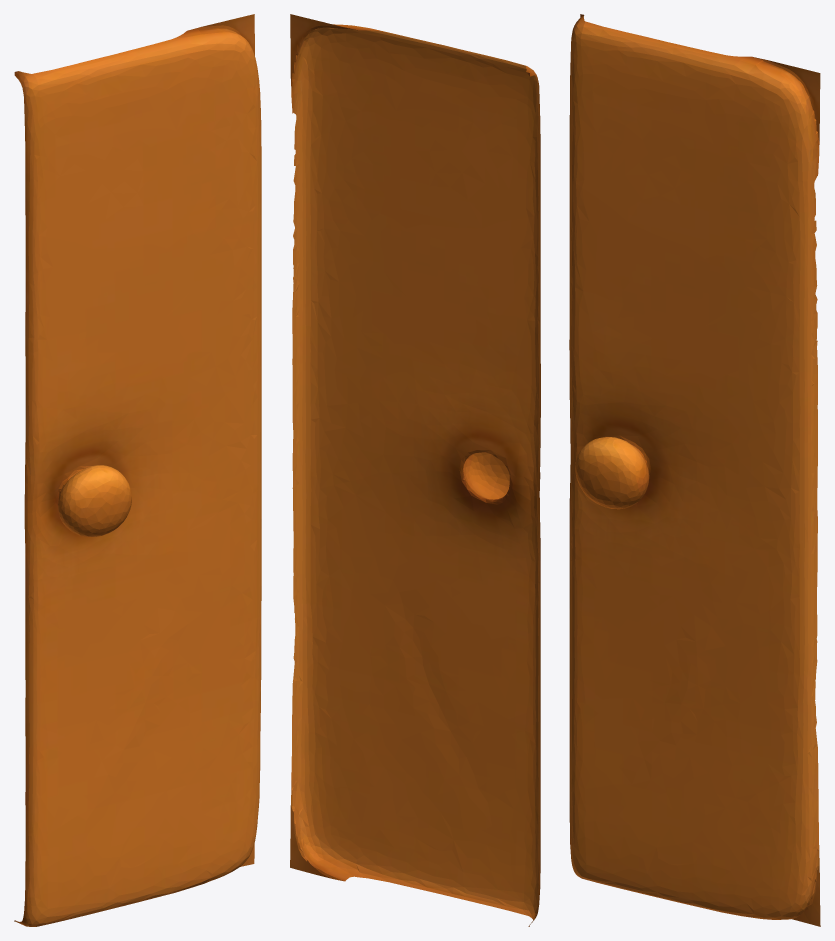
Rendered from door_right.glb.
3 views of the same model, side by side, from view 1: azimuth 30°, elevation 25°; view 2: azimuth 150°, elevation 25°; view 3: azimuth 330°, elevation 25° (orthographic).
Visible parts, largest first — view 1: source_surface_0; view 2: source_surface_0; view 3: source_surface_0.
Boxes of the visible parts, x1,y1,x2,y2 form: source_surface_0: [14, 14, 261, 926]; source_surface_0: [290, 14, 540, 926]; source_surface_0: [569, 14, 820, 926].
Bounding box in the file's own units: 0.0393 × 0.1333 × 0.0103.
Materials: 1 (1 with a texture image).
